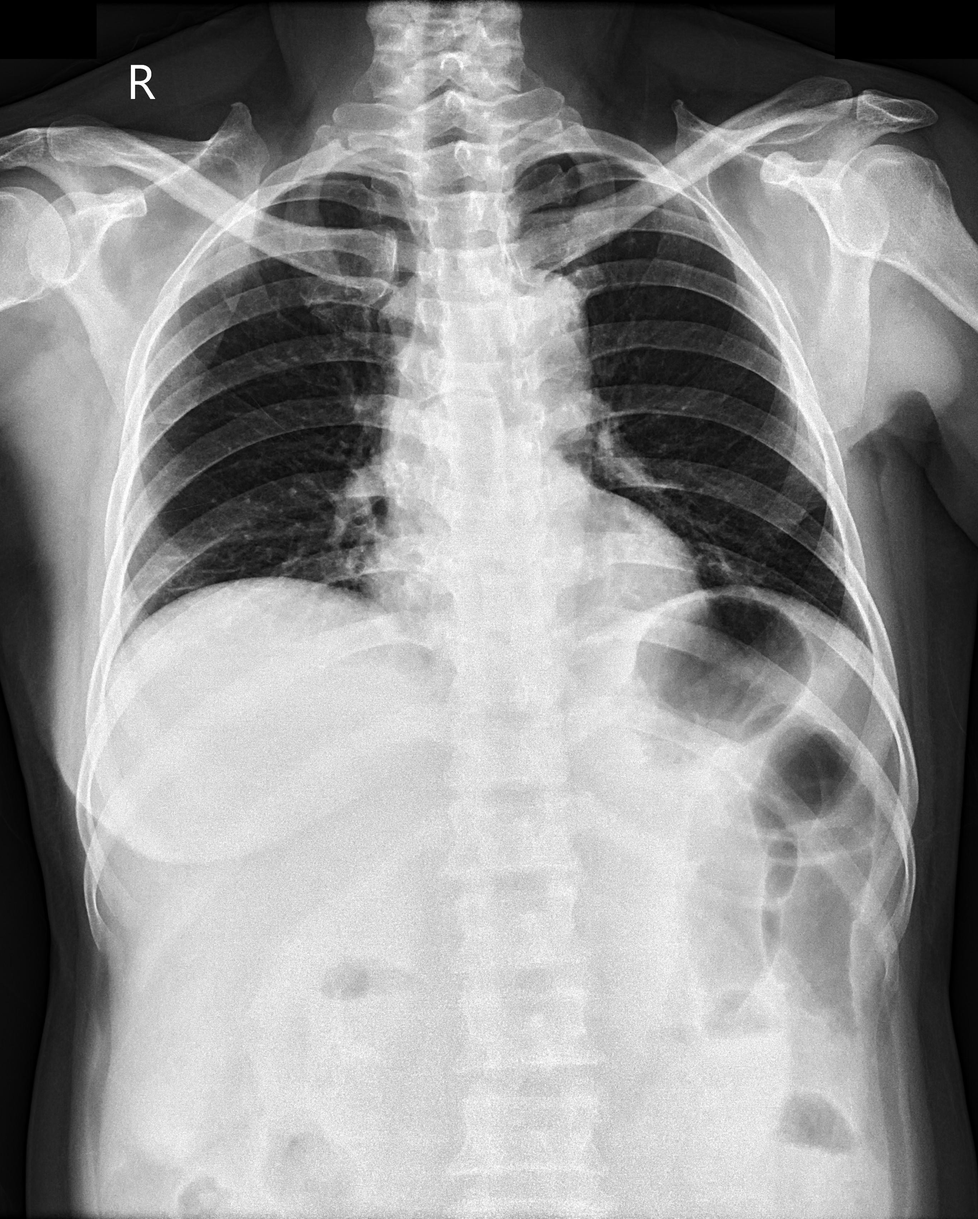Aortic enlargement: (477, 265, 592, 397)
